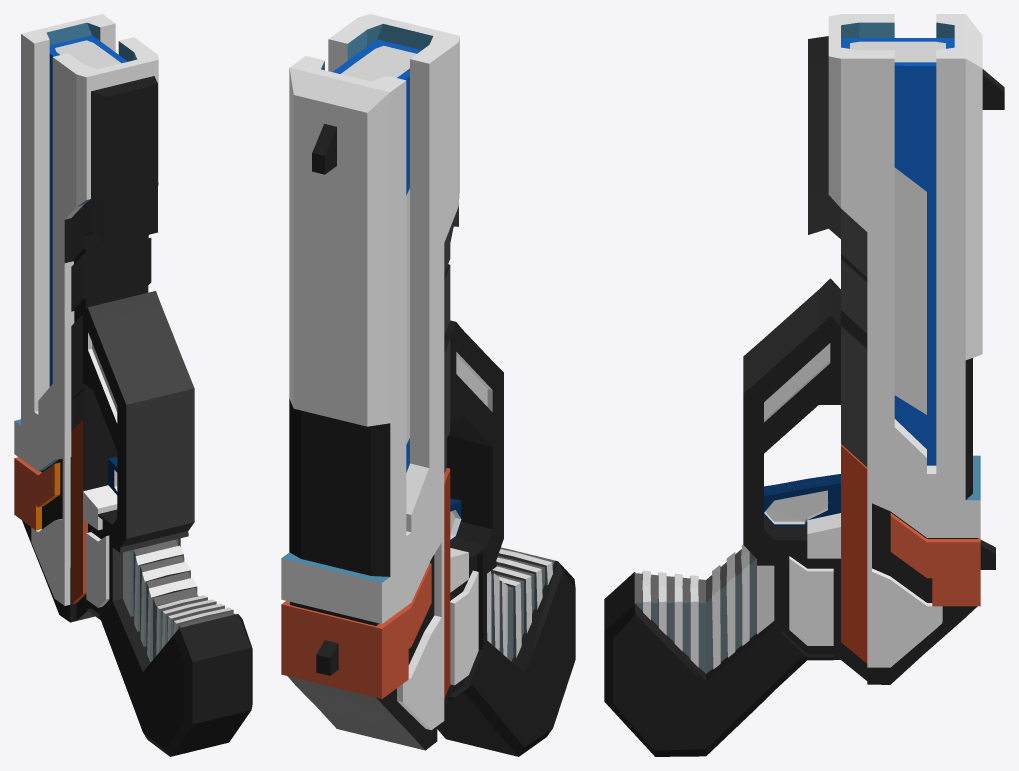
The model's file is ScifiHandGun.fbx.
The picture shows the model from 3 angles, left to right: view 1: azimuth 30°, elevation 25°; view 2: azimuth 150°, elevation 25°; view 3: azimuth 270°, elevation 25°; orthographic projection. The views are drawn at different scales.
Parts seen in each view (by area): view 1: Gun; view 2: Gun; view 3: Gun.
Part boxes in pixels (box(x1,y1,x2,y2)): Gun: box(14, 14, 252, 756); Gun: box(281, 14, 575, 756); Gun: box(604, 14, 1004, 756).
Bounding box in the file's own units: 0.3749 × 2.75 × 1.41.
4 materials, 1 textured.
